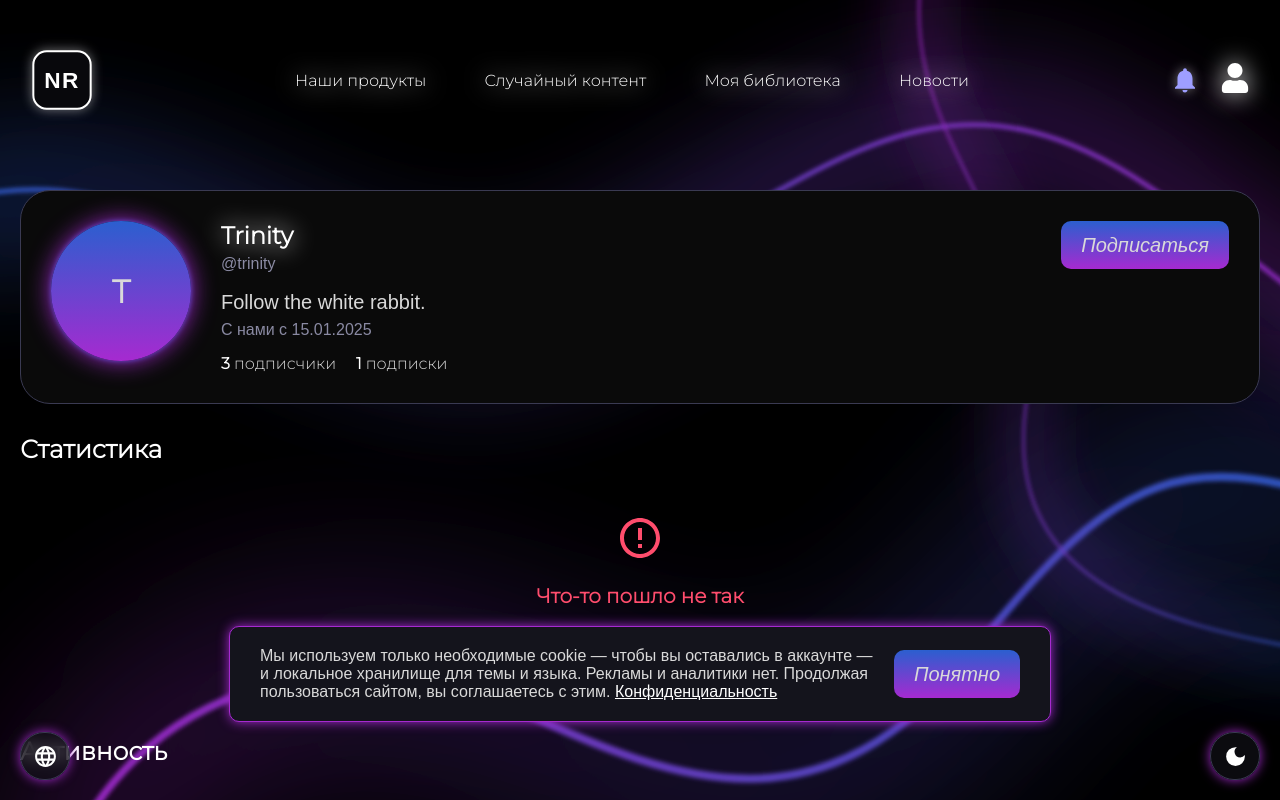
Follows › follows and unfollows, updating the counter
Click the button "Подписаться" at (1145, 245), box [1061,221,1229,269]
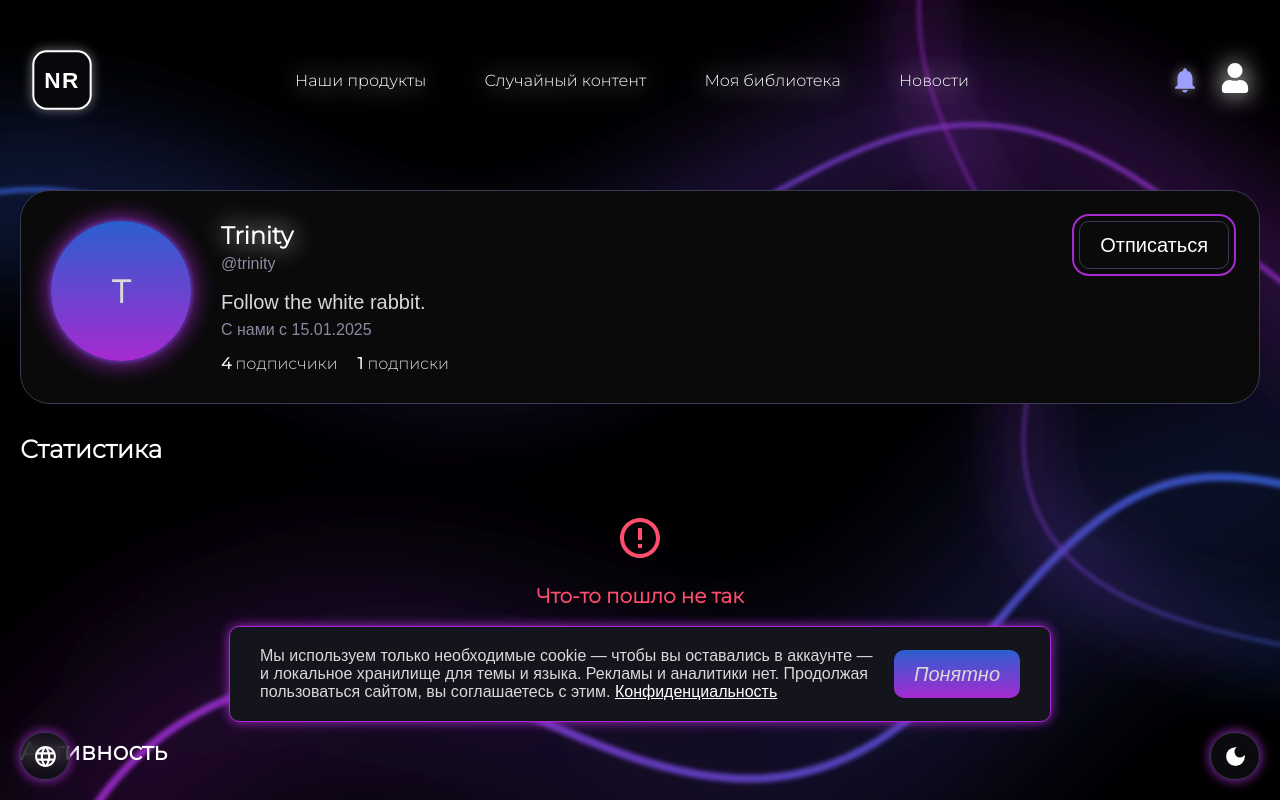
Check: the button "Отписаться" is shown
Check: the button "4 подписчики" is shown, box [221,354,338,373]
Click the button "Отписаться" at (1154, 245), box [1079,221,1229,269]
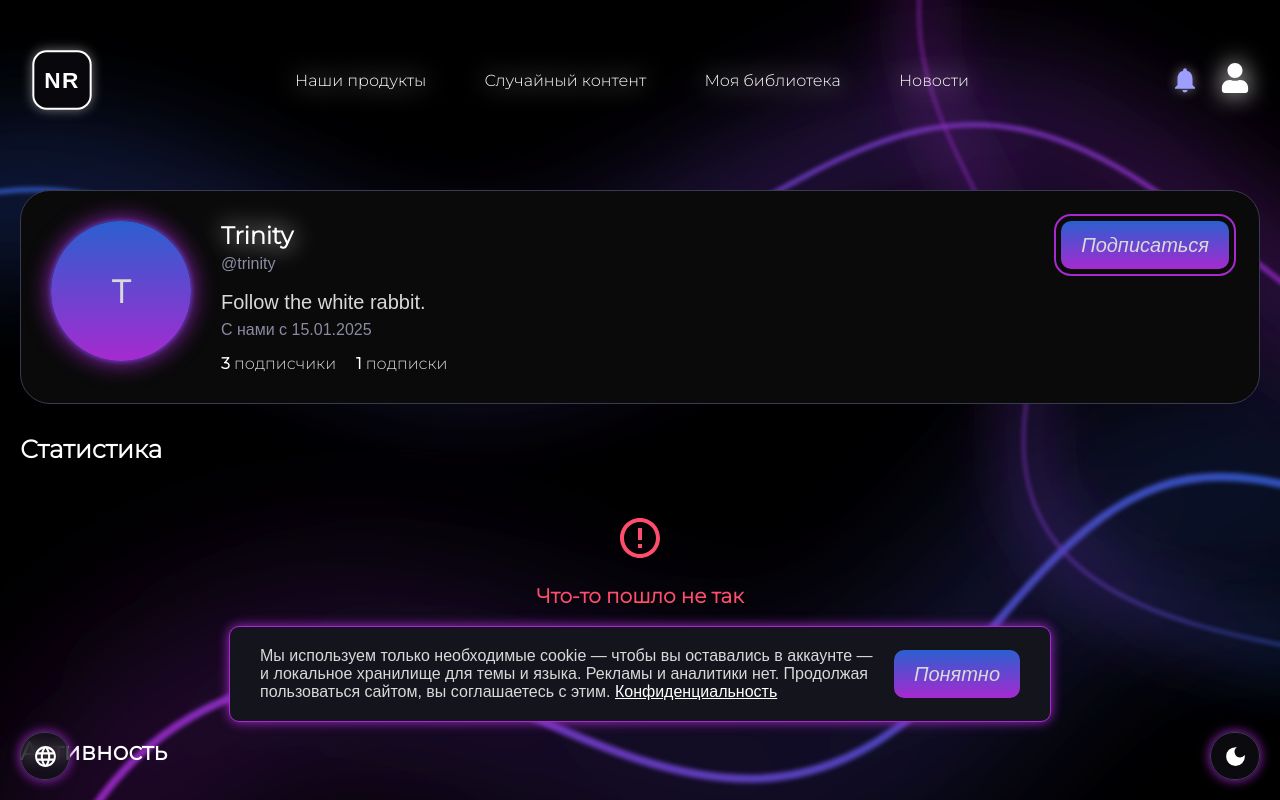
Check: the button "Подписаться" is shown, box [1061,221,1229,269]
